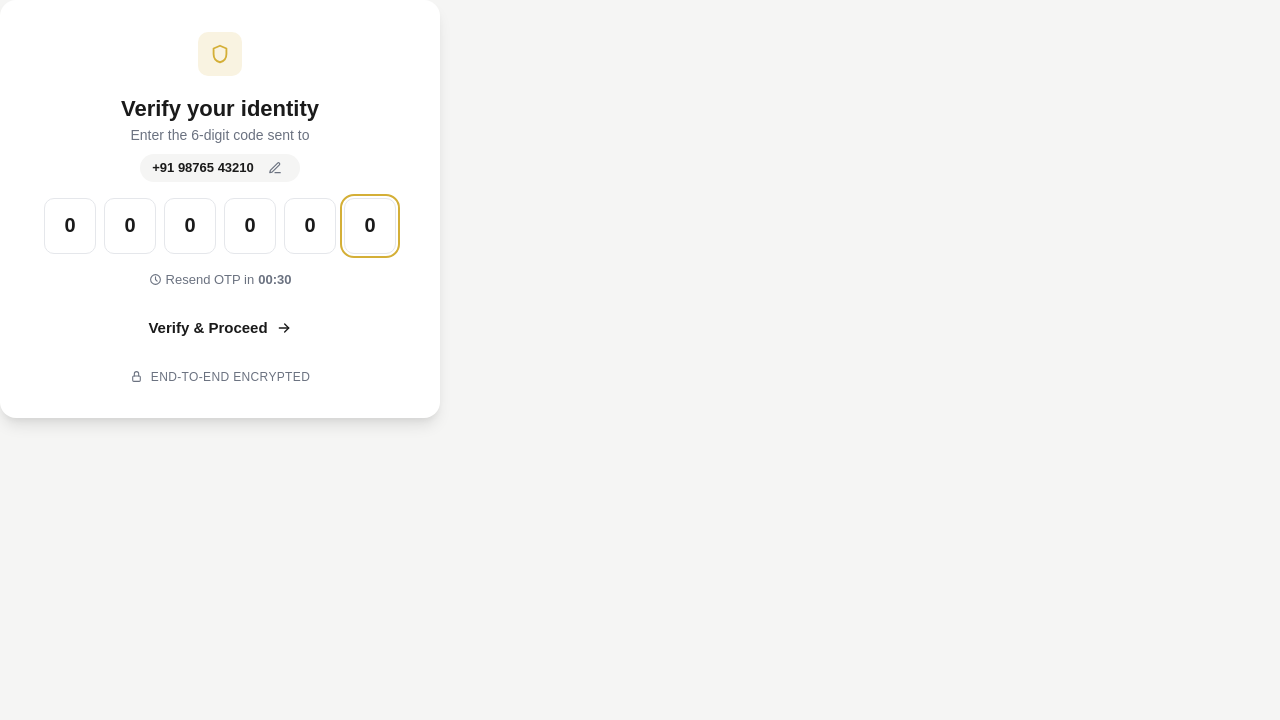
OtpForm › verifying › reports an incorrect code and stays on the screen
The image size is (1280, 720).
Click the button "Verify & Proceed": (220, 328) [24, 305, 416, 352]
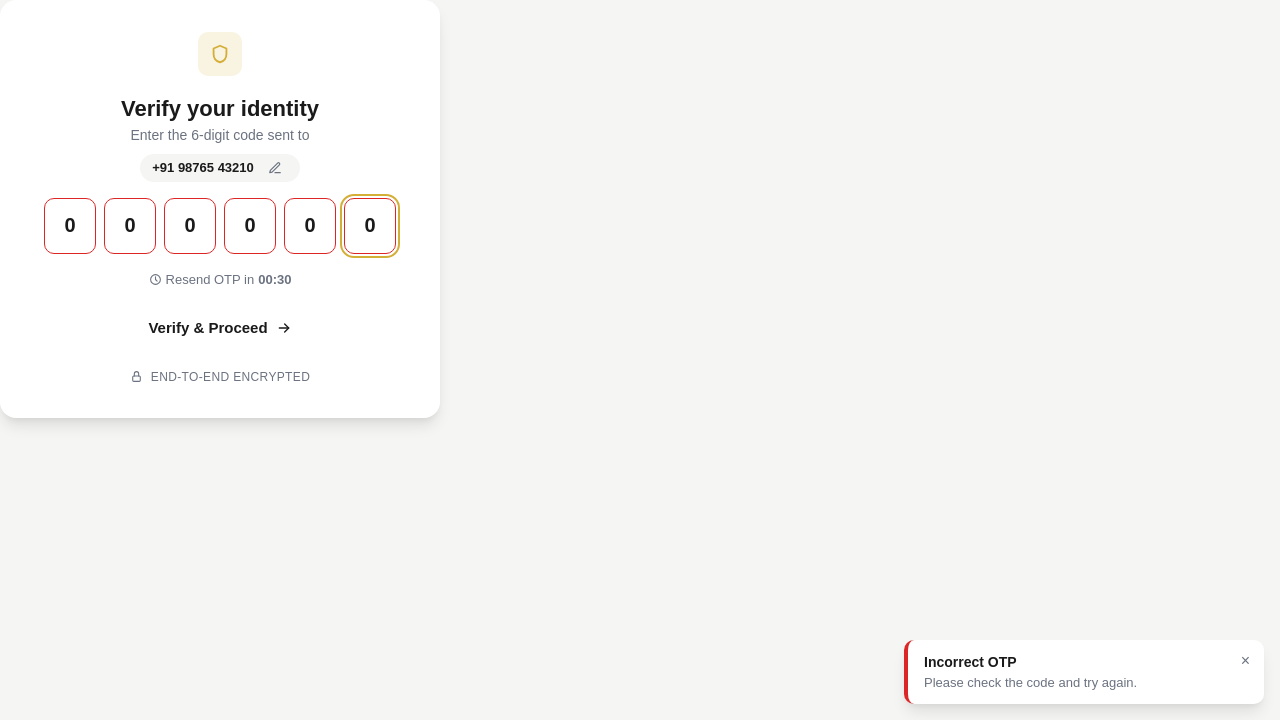
Check: the text "Incorrect OTP" is shown, box [924, 654, 1017, 670]
